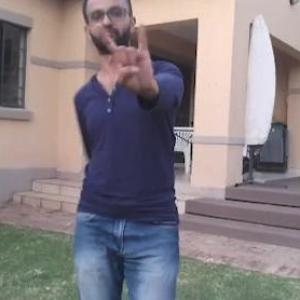takeoff-hand: (94, 22, 161, 98)
